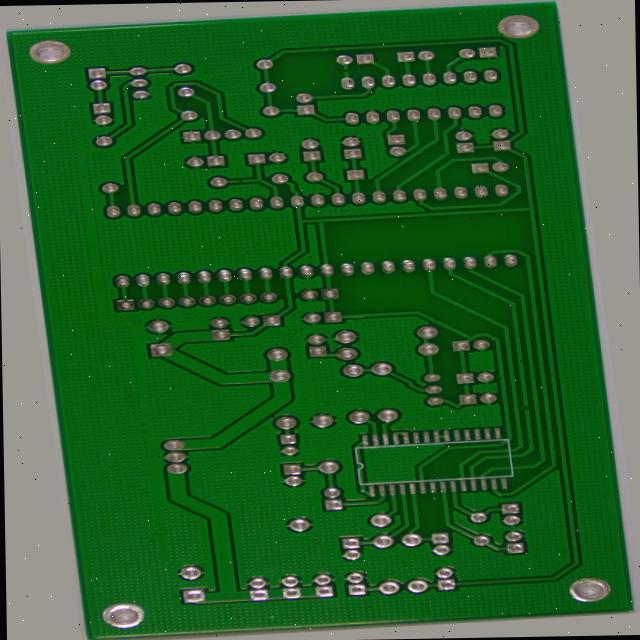open_circuit: (241, 169, 256, 177), (531, 415, 546, 422), (376, 60, 391, 67)
